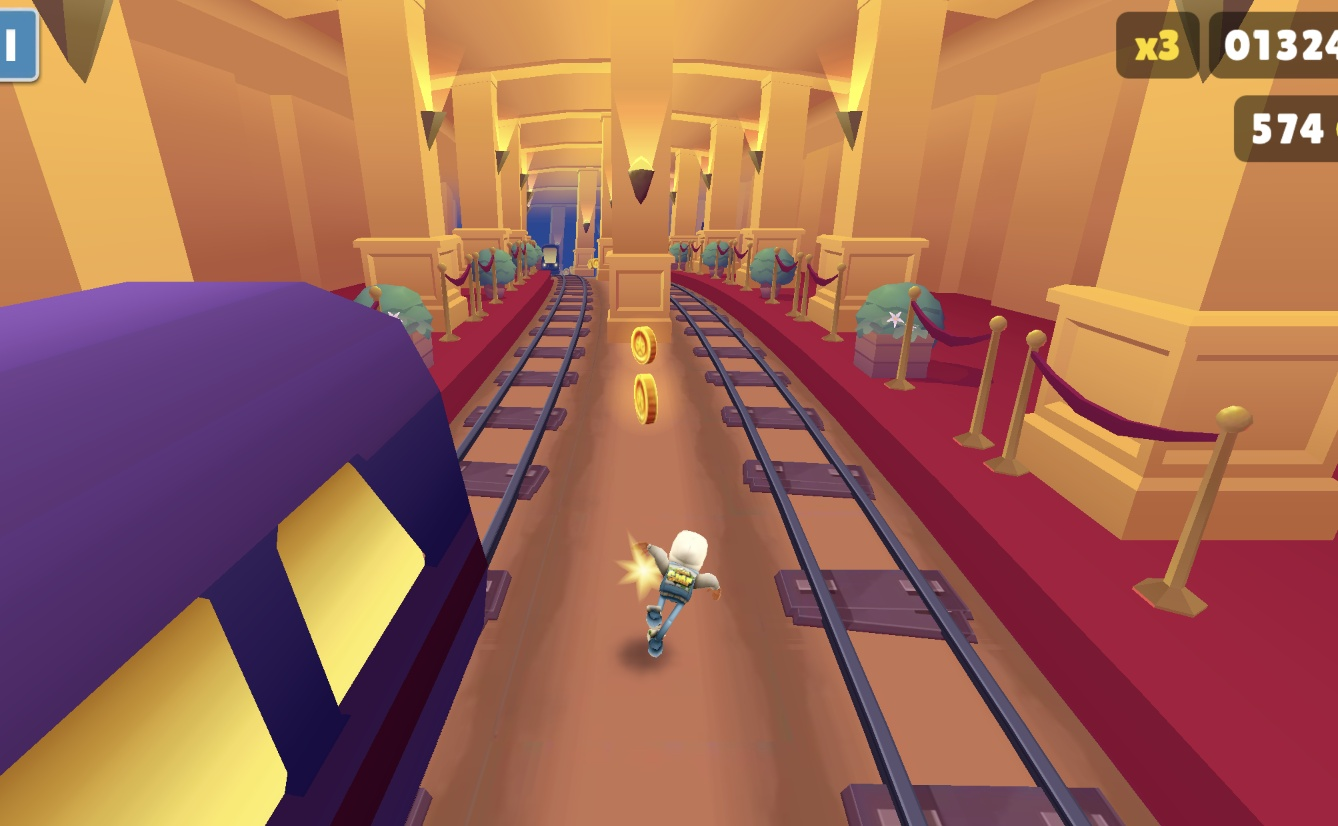pillar: (599, 0, 679, 362)
train: (0, 282, 509, 826)
